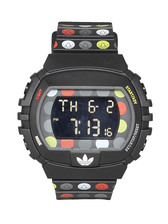watch: (13, 19, 159, 206)
